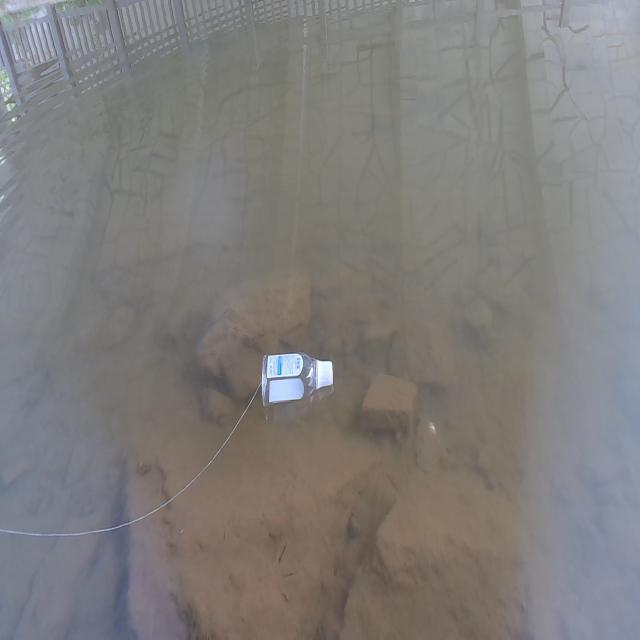garbage: (260, 350, 334, 413)
